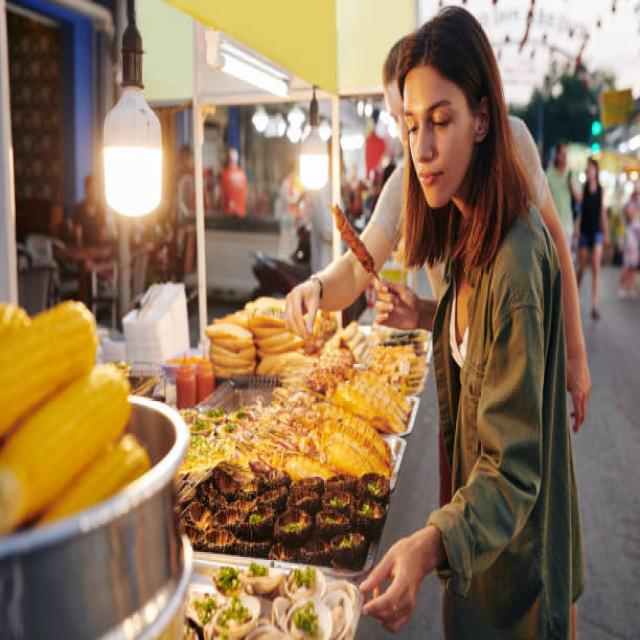Emperan: (3, 0, 534, 640)
